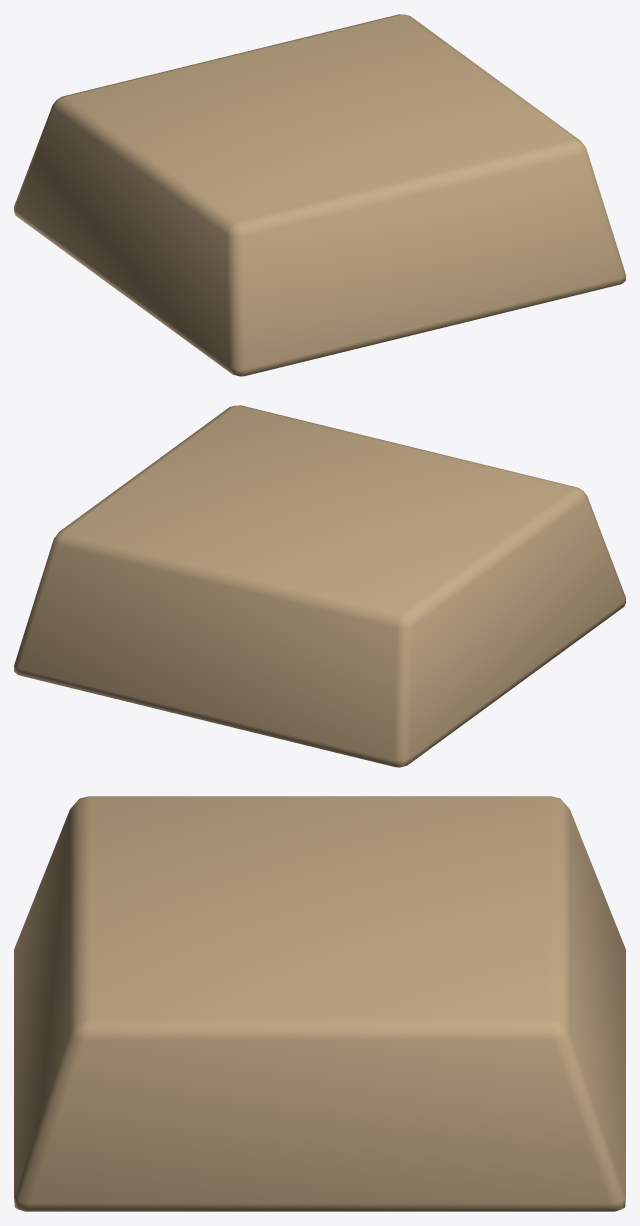
File: RockTile.fbx
3 views of the same model, one above another, from view 1: azimuth 30°, elevation 25°; view 2: azimuth 150°, elevation 25°; view 3: azimuth 270°, elevation 25° (orthographic). The views are drawn at different scales.
Visible parts, largest first — view 1: RockTile; view 2: RockTile; view 3: RockTile.
Boxes of the visible parts, x1=… form: RockTile: x1=14, y1=14, x2=625, y2=376; RockTile: x1=14, y1=405, x2=625, y2=767; RockTile: x1=14, y1=796, x2=625, y2=1211.
Bounding box in the file's own units: 0.8303 × 0.2655 × 0.824.
